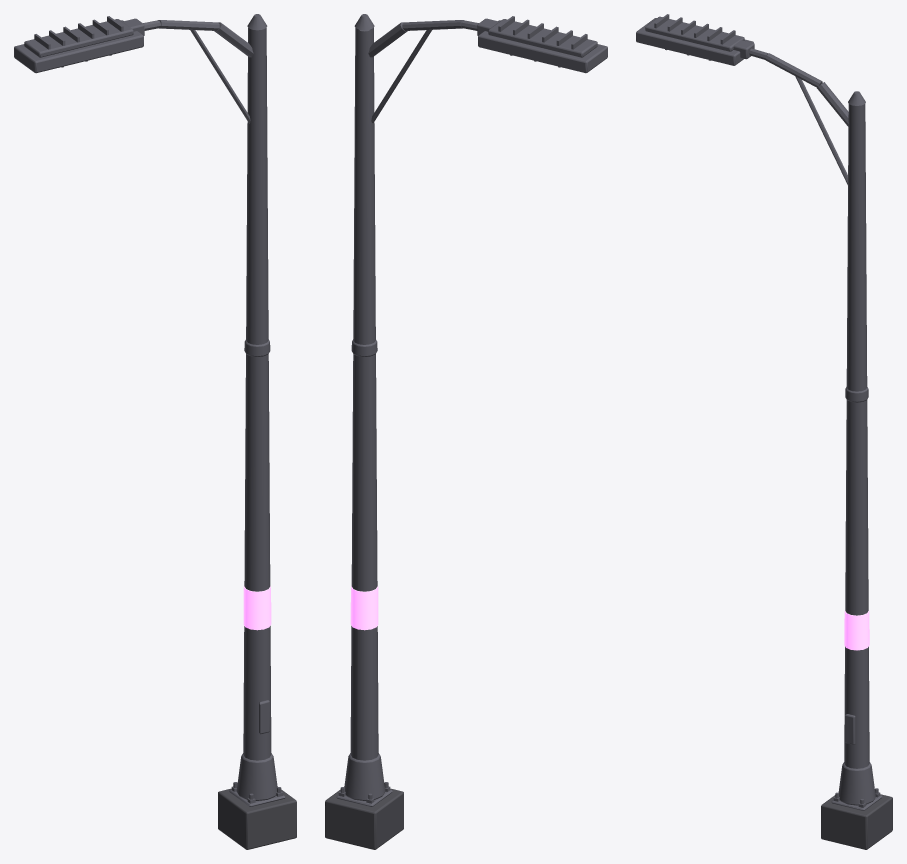
Rendered from lamp.glb.
3 views of the same model, side by side, from view 1: azimuth 30°, elevation 25°; view 2: azimuth 150°, elevation 25°; view 3: azimuth 330°, elevation 25° (orthographic). The views are drawn at different scales.
Visible parts, largest first — view 1: lamp; view 2: lamp; view 3: lamp.
Boxes of the visible parts, x1,y1,x2,y2 form: lamp: [14, 14, 296, 849]; lamp: [325, 14, 607, 849]; lamp: [636, 14, 892, 849].
Size of the model in its own units: 3.55 by 11.11 by 0.7.
